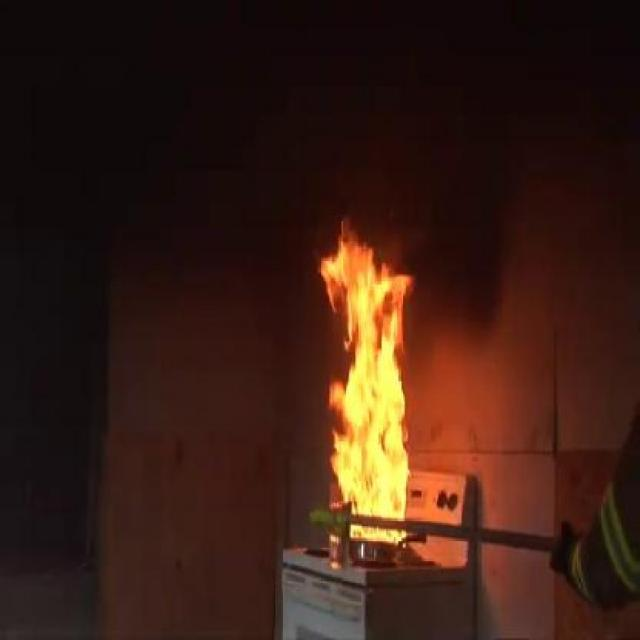fire: (308, 206, 422, 540)
